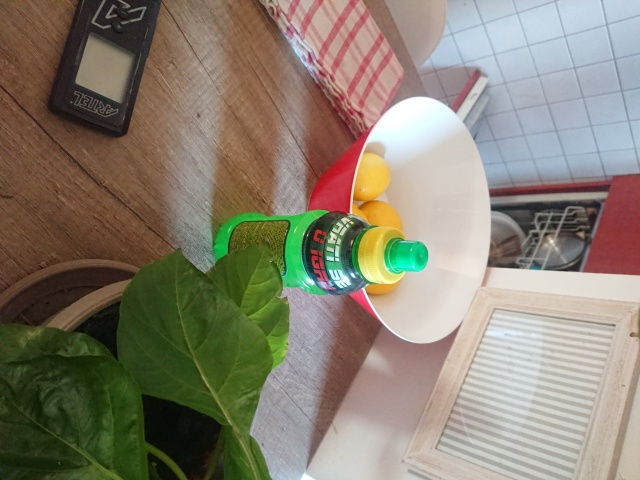Vindi Iso Sport Lemon-Grapefruit 500mL: (209, 207, 431, 299)
